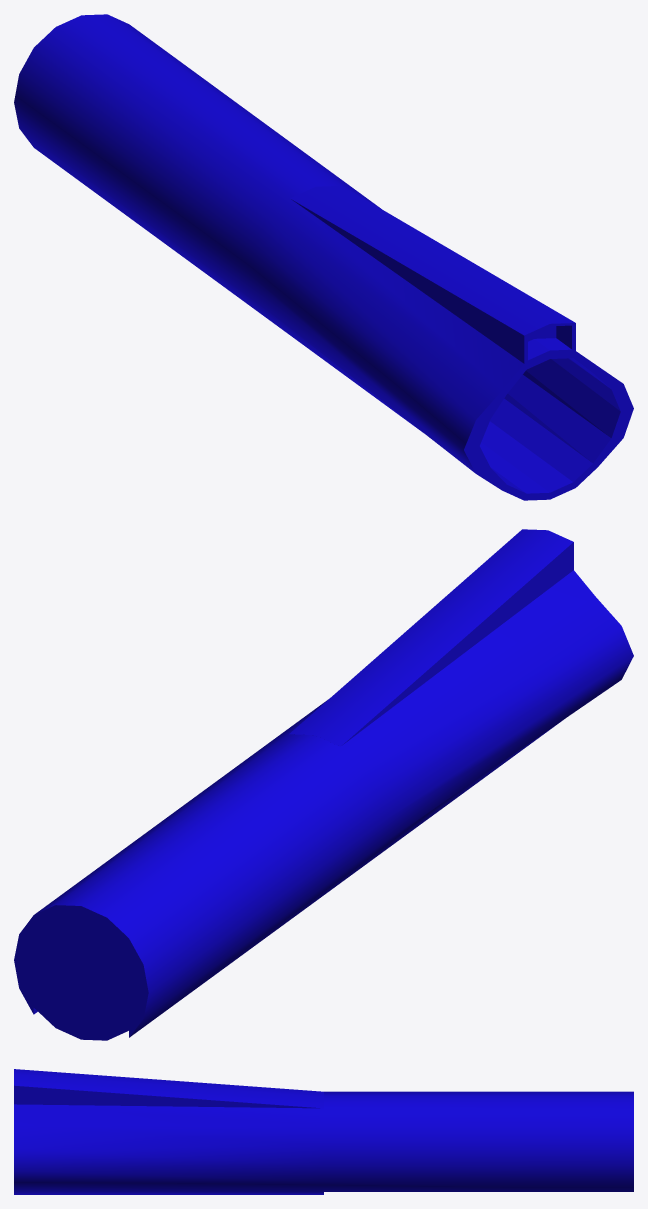
Rendered from Turret.fbx.
3 views of the same model, one above another, from view 1: azimuth 30°, elevation 25°; view 2: azimuth 150°, elevation 25°; view 3: azimuth 270°, elevation 25° (orthographic). The views are drawn at different scales.
Visible parts, largest first — view 1: TurretGun; view 2: TurretGun; view 3: TurretGun.
Part boxes in pixels (bbox=[...]): TurretGun: bbox=[14, 14, 633, 500]; TurretGun: bbox=[14, 529, 633, 1040]; TurretGun: bbox=[14, 1069, 633, 1194].
Bounding box in the file's own units: 12.58 × 12.42 × 60.
